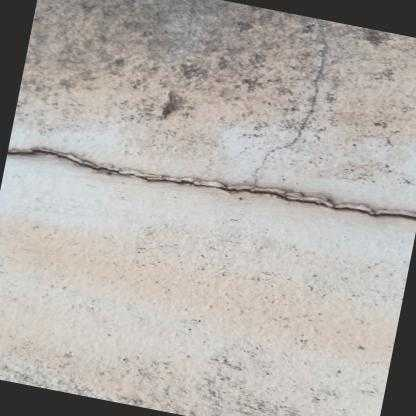crack: (7, 147, 416, 219)
